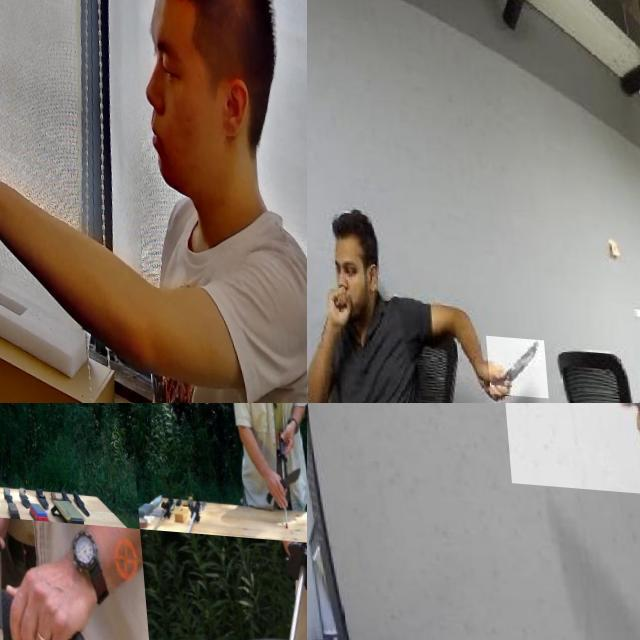-: (488, 403, 640, 540), (0, 561, 92, 640), (479, 331, 541, 393), (257, 453, 299, 499), (0, 432, 22, 477)
gun-knife-thesis - v11 Yolov5 augmented: (0, 0, 47, 145)
